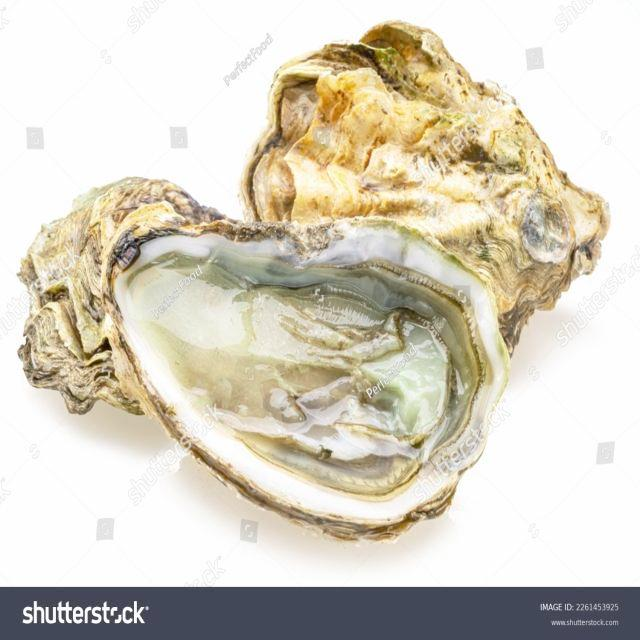Oyster-Closed: (247, 21, 610, 351), (17, 177, 224, 446)
Oyster-Open: (110, 221, 512, 544)
